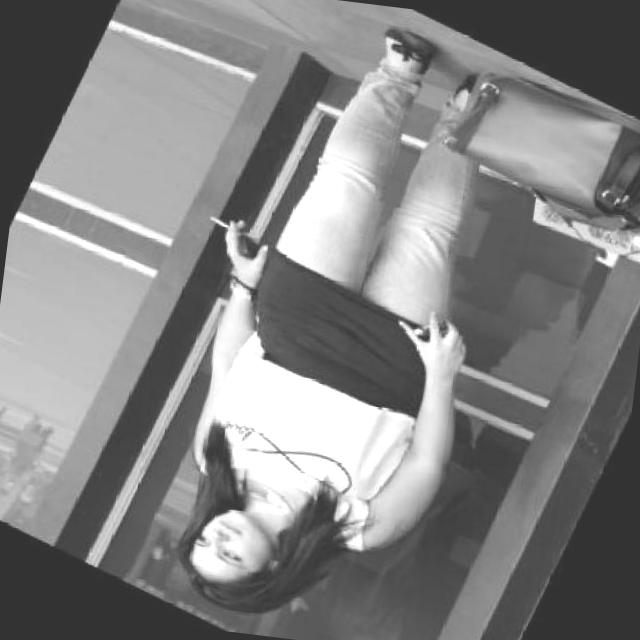cigarette: (204, 210, 238, 232)
